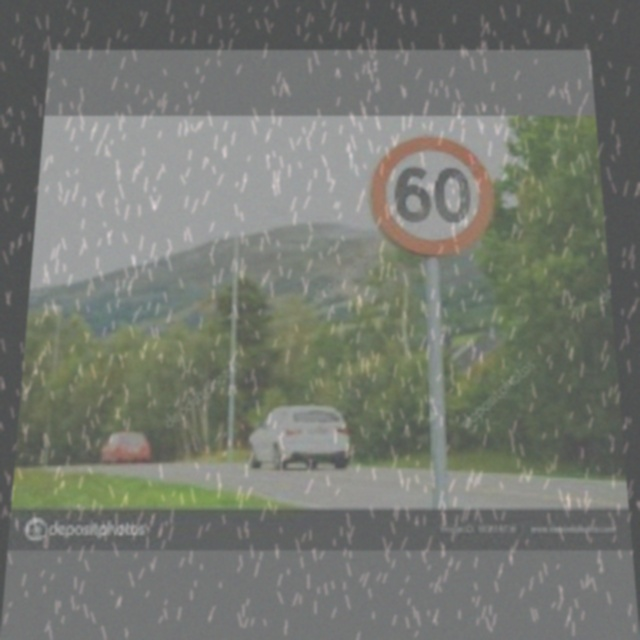Speed_Limit_60: (368, 132, 496, 254)
